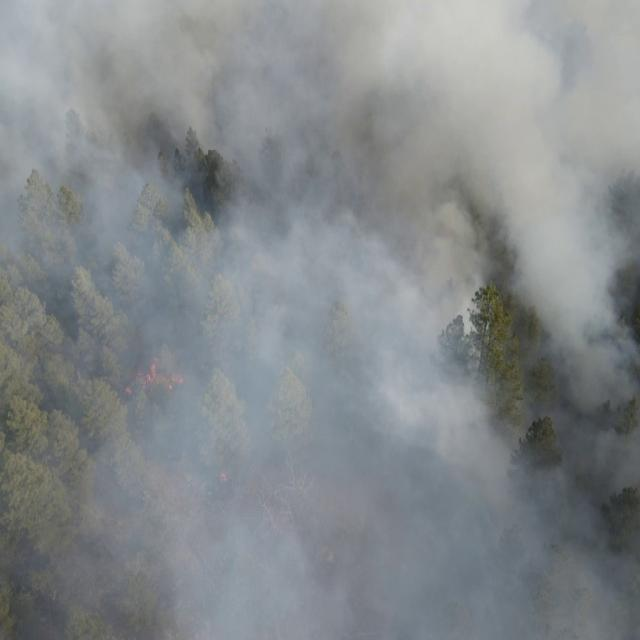fire: (124, 360, 188, 398), (217, 469, 228, 485)
smoke: (0, 0, 640, 640)
